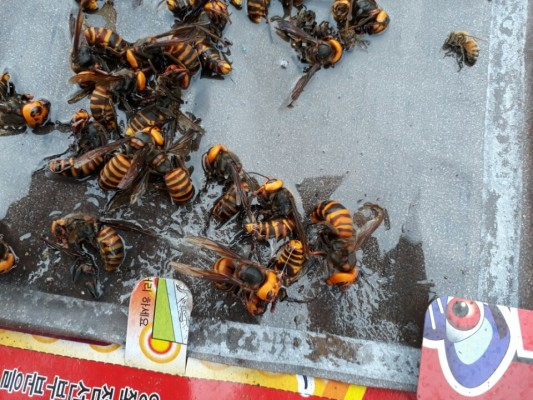asian_giant_hornet: (306, 192, 362, 291), (47, 208, 126, 271), (243, 239, 305, 317), (199, 142, 254, 224), (99, 123, 164, 191), (49, 107, 107, 178), (89, 66, 151, 131), (210, 252, 286, 304), (242, 173, 300, 241), (189, 1, 236, 78), (125, 34, 202, 77), (1, 71, 52, 133), (146, 144, 196, 206), (86, 22, 154, 66), (331, 1, 393, 37), (291, 29, 346, 68), (162, 1, 229, 19), (1, 232, 20, 274), (246, 1, 271, 23), (74, 1, 114, 14)
